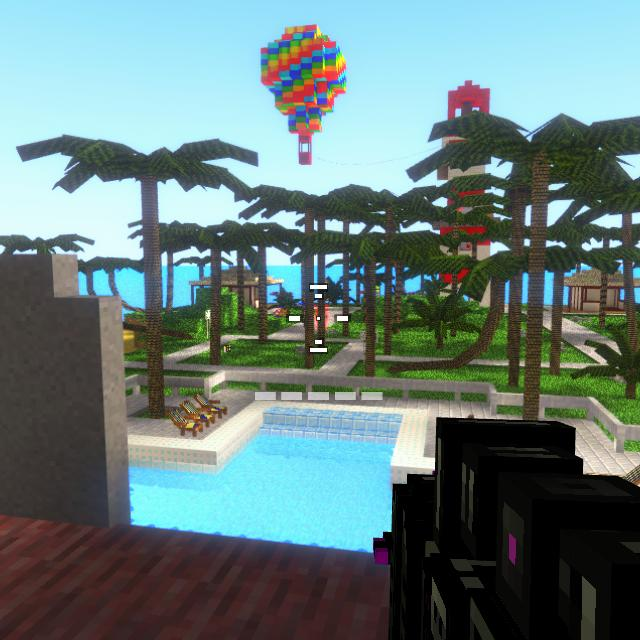Enemy: (316, 309, 325, 329)
